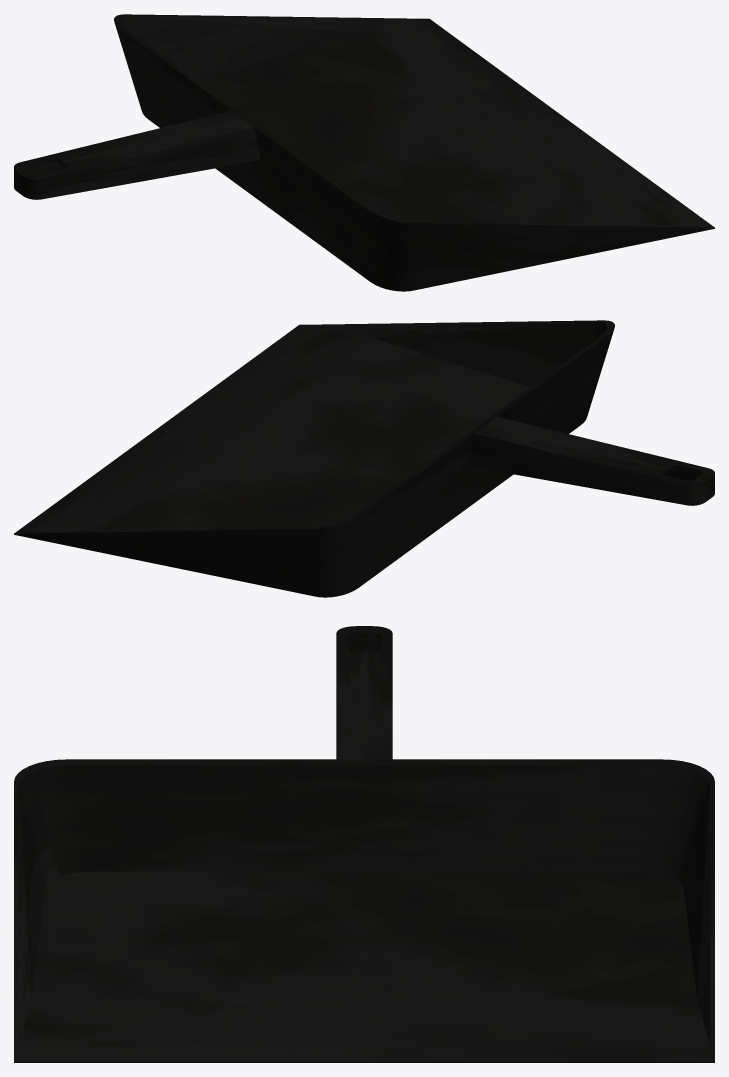
Rendered from dustpan.fbx.
3 views of the same model, one above another, from view 1: azimuth 30°, elevation 25°; view 2: azimuth 150°, elevation 25°; view 3: azimuth 270°, elevation 25° (orthographic). The views are drawn at different scales.
Visible parts, largest first — view 1: dustpan; view 2: dustpan; view 3: dustpan.
Part boxes in pixels (box(x1,y1,x2,y2)): dustpan: box(14, 14, 714, 291); dustpan: box(14, 320, 714, 597); dustpan: box(14, 626, 714, 1062).
Bounding box in the file's own units: 33.55 × 5 × 30.
1 material, 1 textured.
